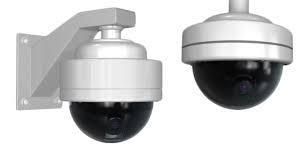maru: (178, 18, 296, 113), (54, 51, 161, 149)
